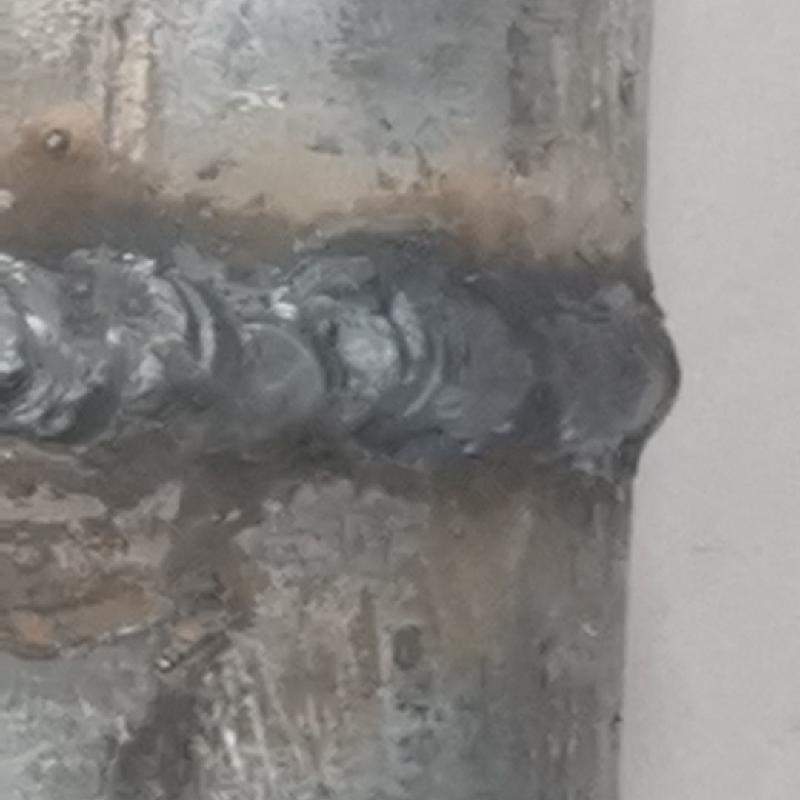good: (3, 239, 683, 462)
